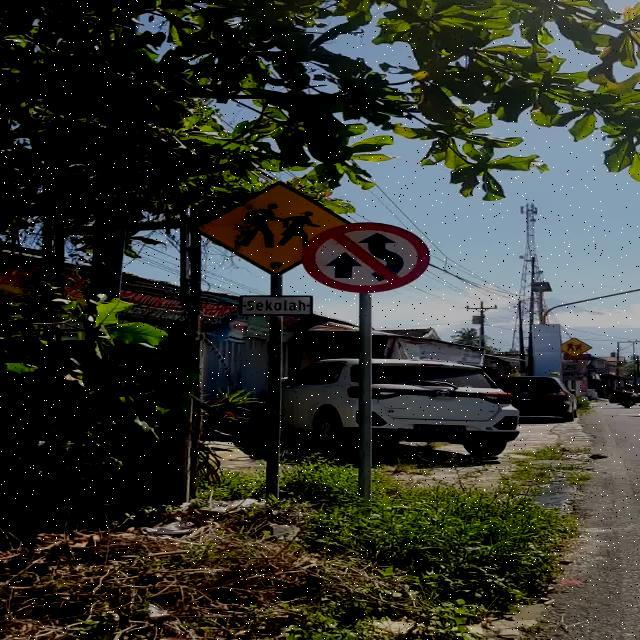Dilarang Mendahului: (300, 222, 430, 293)
